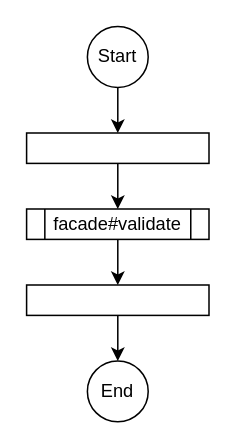
This 236x448 diagram has some shape labels left out. The shapes that lost their labels are listed below. From the top down, each one's centre as x and y in pixels, then its label:
point (117, 147): controller#validate
point (117, 299): send result
